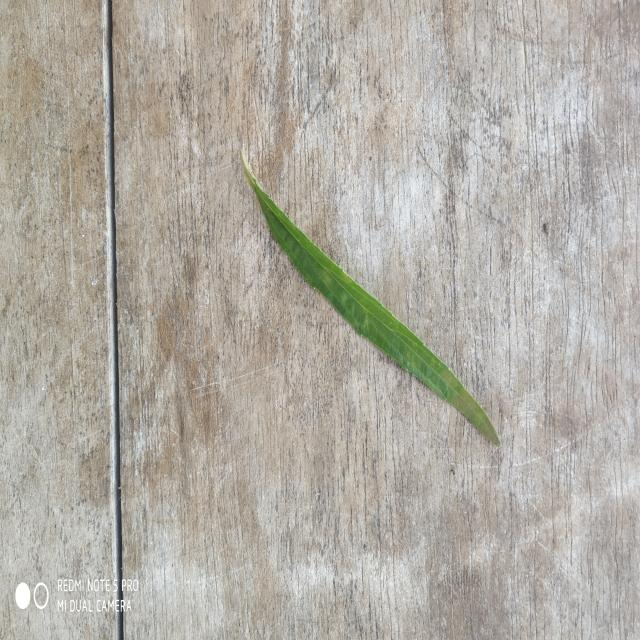thambe: (241, 151, 501, 447)
